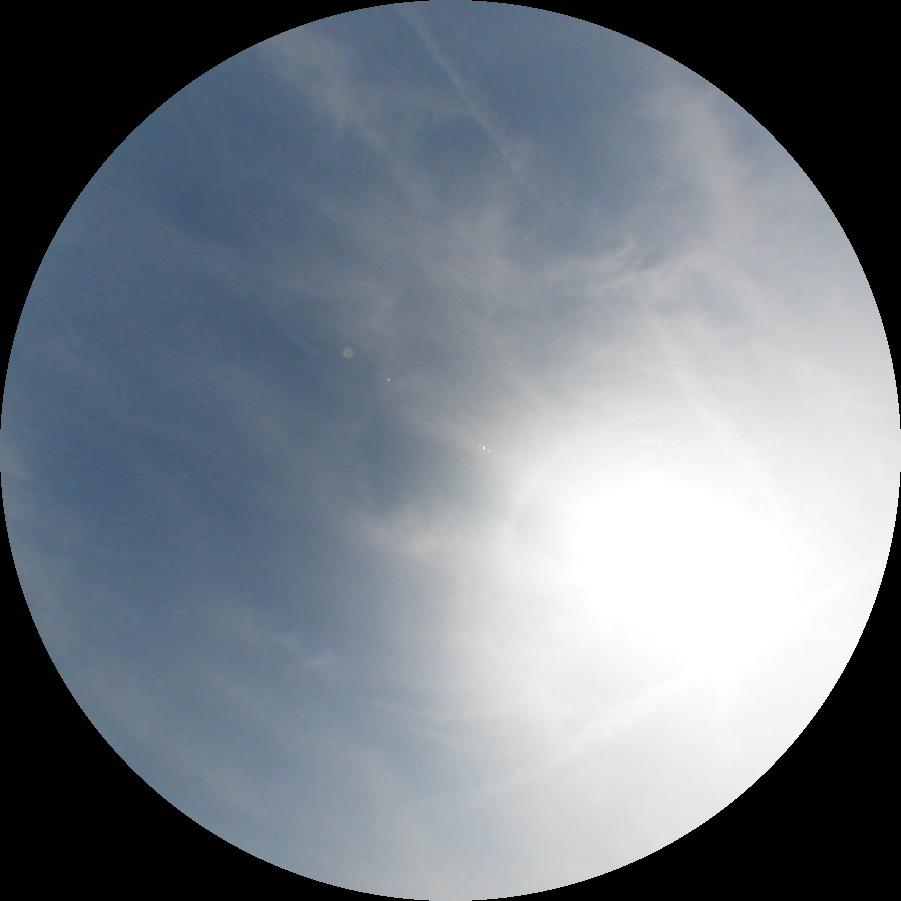contrail veryold: (396, 5, 790, 512), (402, 675, 701, 826)
sun: (578, 472, 804, 640)
